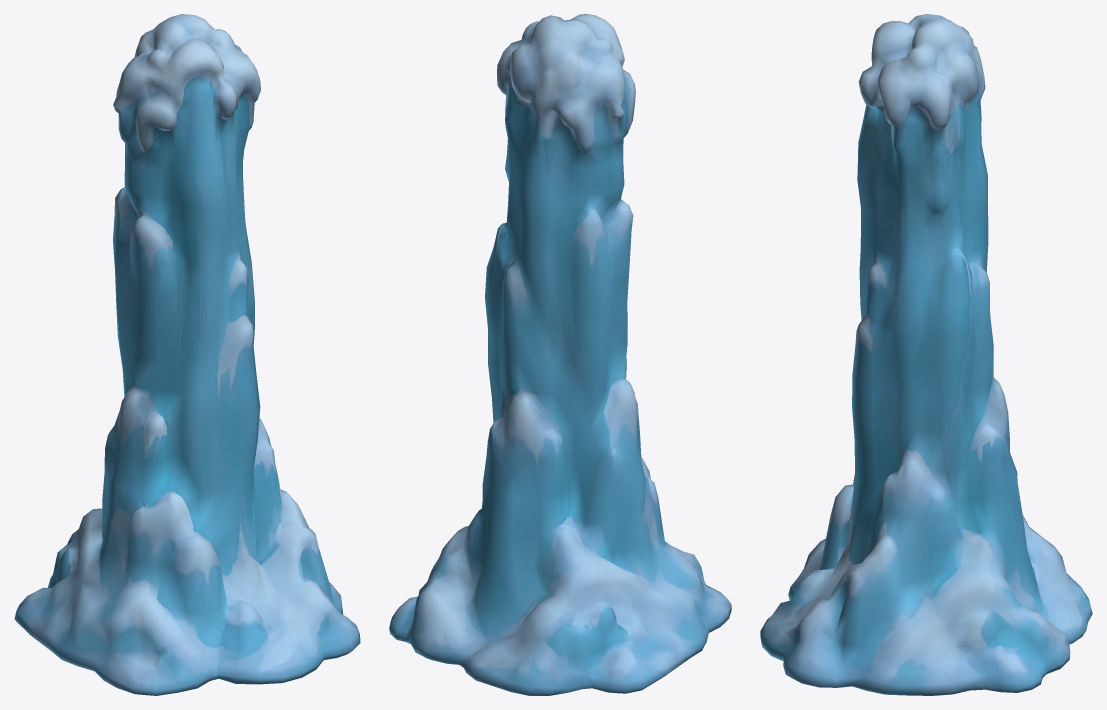
Rendered from SM_Tripo_FrostIcePillar.glb.
3 renders of one model, left to right at view 1: azimuth 30°, elevation 25°; view 2: azimuth 150°, elevation 25°; view 3: azimuth 270°, elevation 25°, orthographic.
Visible parts, largest first — view 1: SM_Tripo_FrostIcePillar_LOD0; view 2: SM_Tripo_FrostIcePillar_LOD0; view 3: SM_Tripo_FrostIcePillar_LOD0.
Boxes of the visible parts, x1,y1,x2,y2 form: SM_Tripo_FrostIcePillar_LOD0: (14, 14, 360, 695); SM_Tripo_FrostIcePillar_LOD0: (389, 14, 731, 695); SM_Tripo_FrostIcePillar_LOD0: (760, 14, 1092, 695).
Bounding box in the file's own units: 2.52 × 5.46 × 2.69.
1 material, 1 textured.
